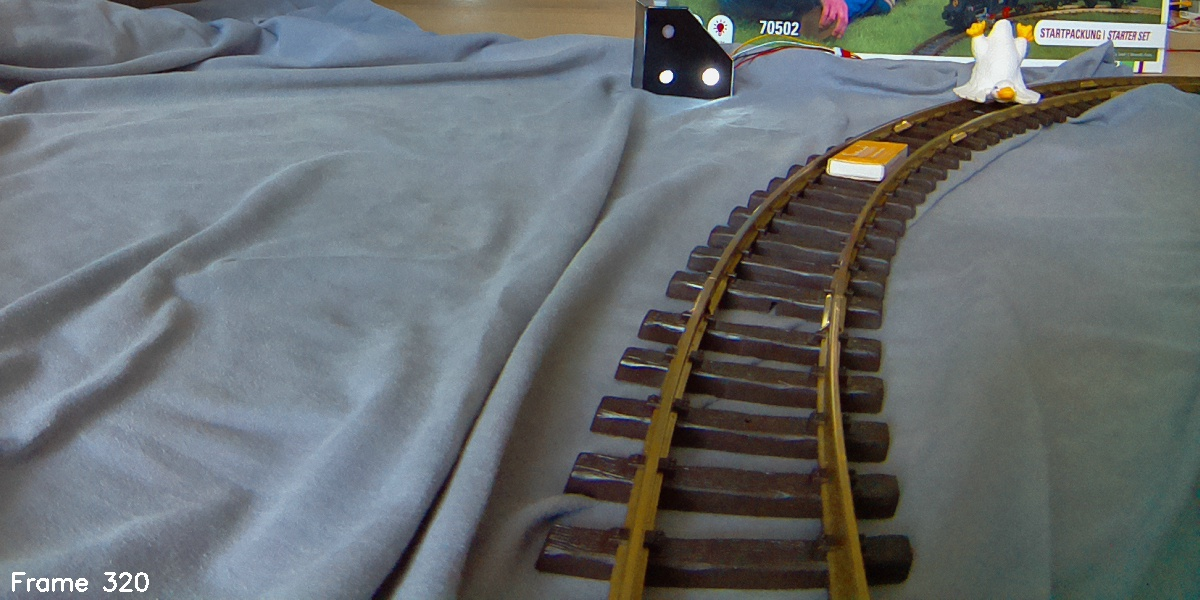Halt: (632, 3, 733, 99)
